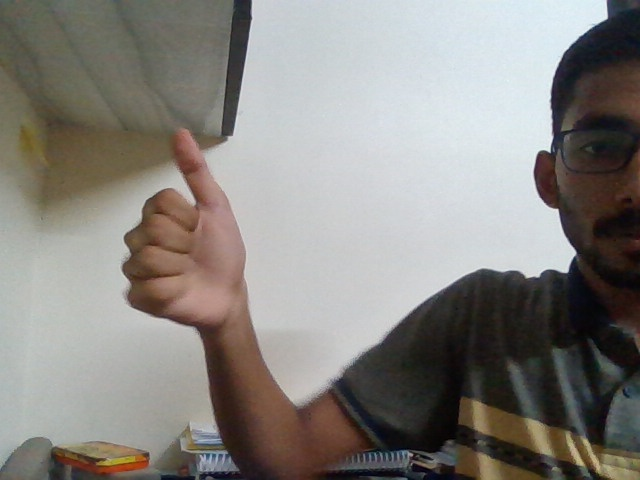Yes: (102, 108, 266, 361)
